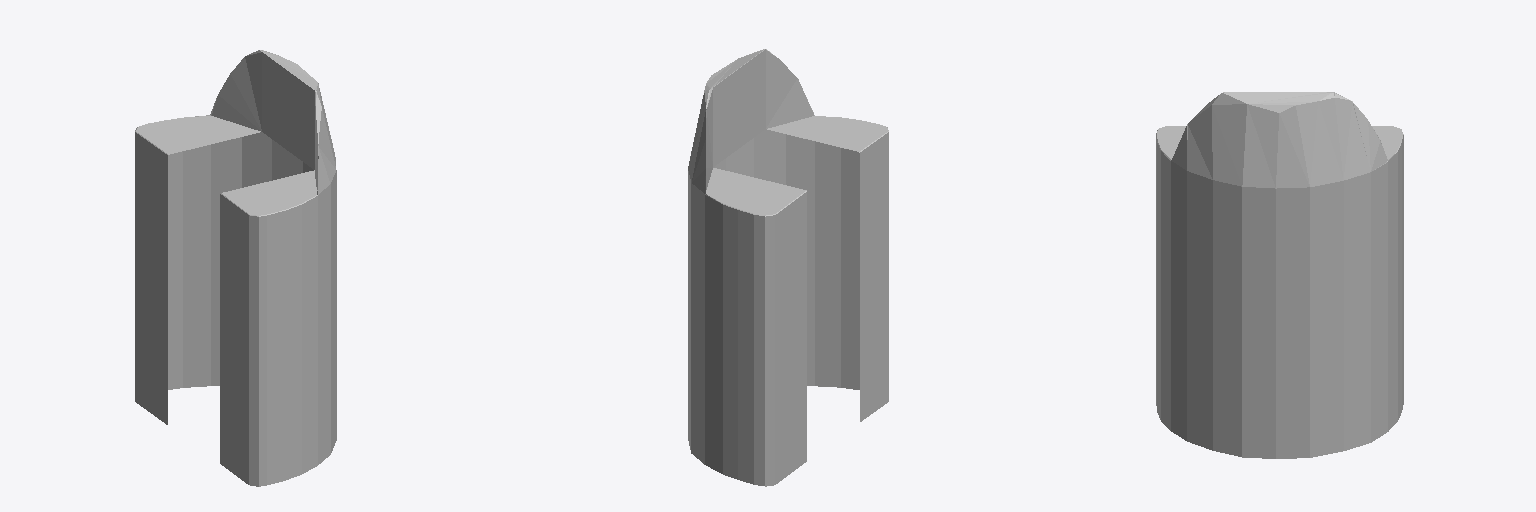
Rendered from body_light.obj.
3 views of the same model, side by side, from view 1: azimuth 30°, elevation 25°; view 2: azimuth 150°, elevation 25°; view 3: azimuth 270°, elevation 25° (orthographic).
Bounding box in the file's own units: 0.217 × 0.577 × 0.362.